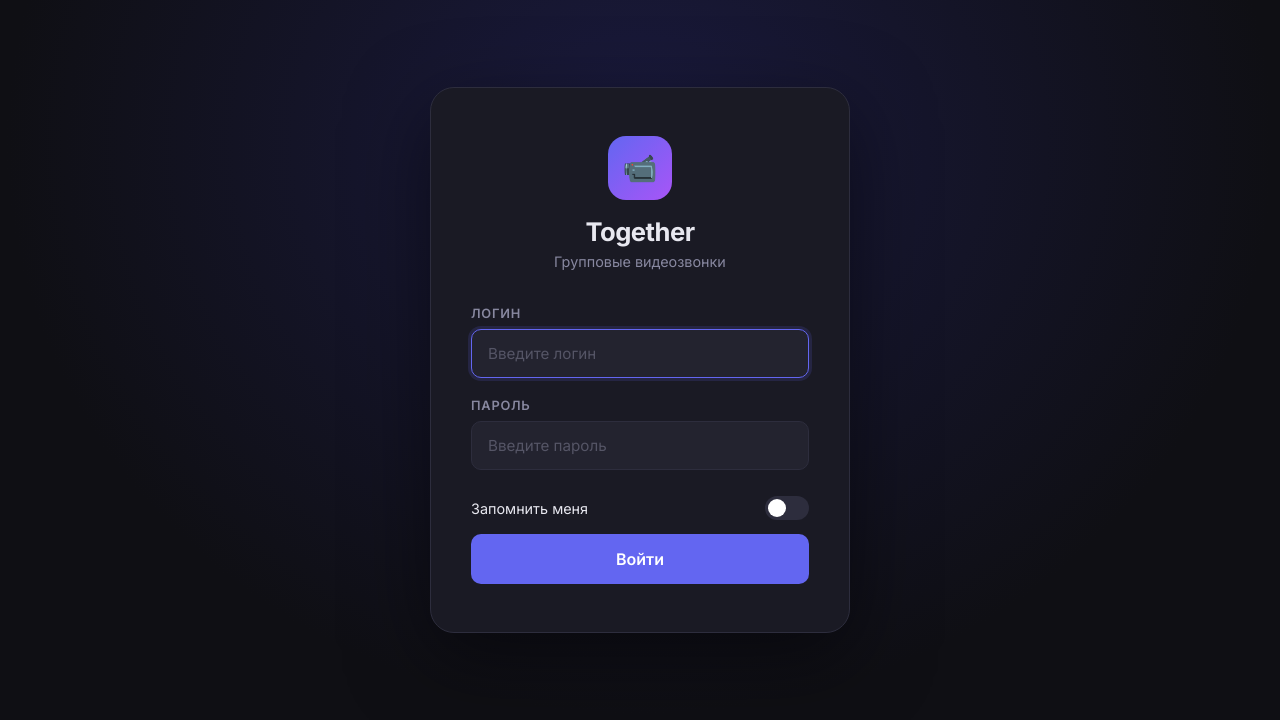
Test: Login › кнопка блокируется во время загрузки
Type "admin" into the field with placeholder "Введите логин". click: (640,354)
box: 471,329 -> 809,378
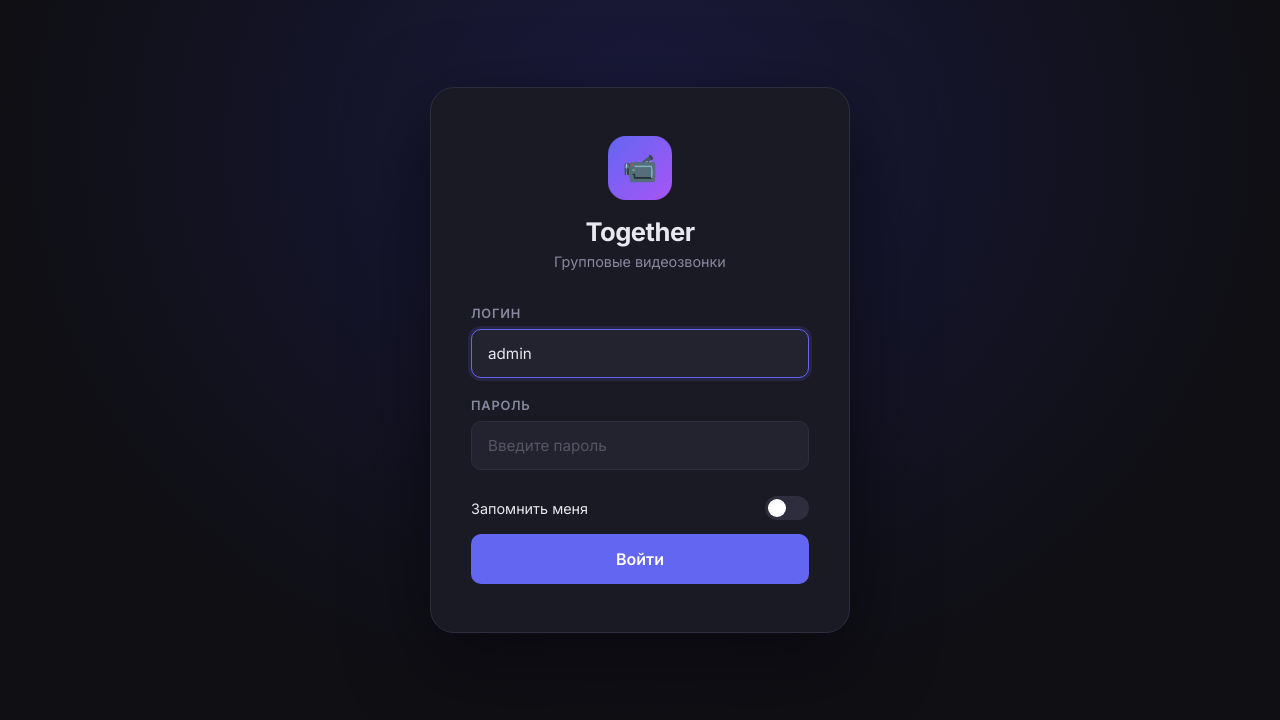
Type "pass" into the password field with placeholder "Введите пароль". click: (640,446)
box: 471,421 -> 809,470
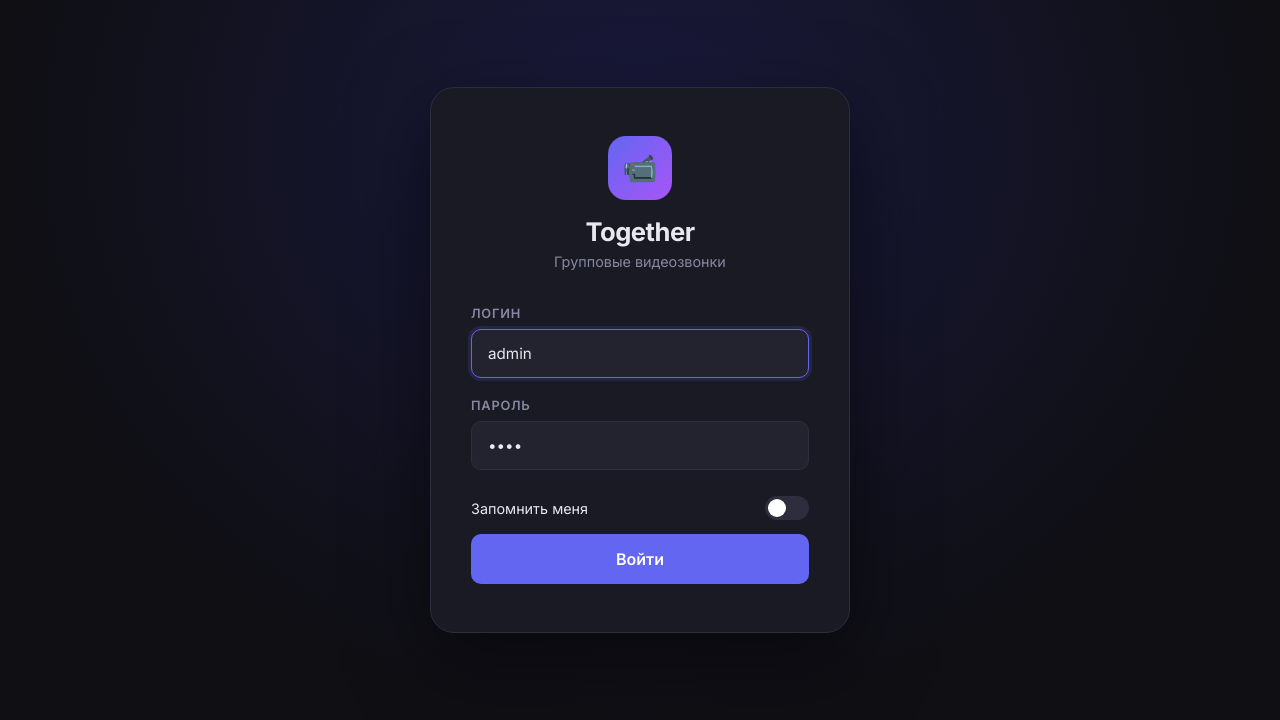
Click the button "Войти". click: (640,559)
box: 471,534 -> 809,584
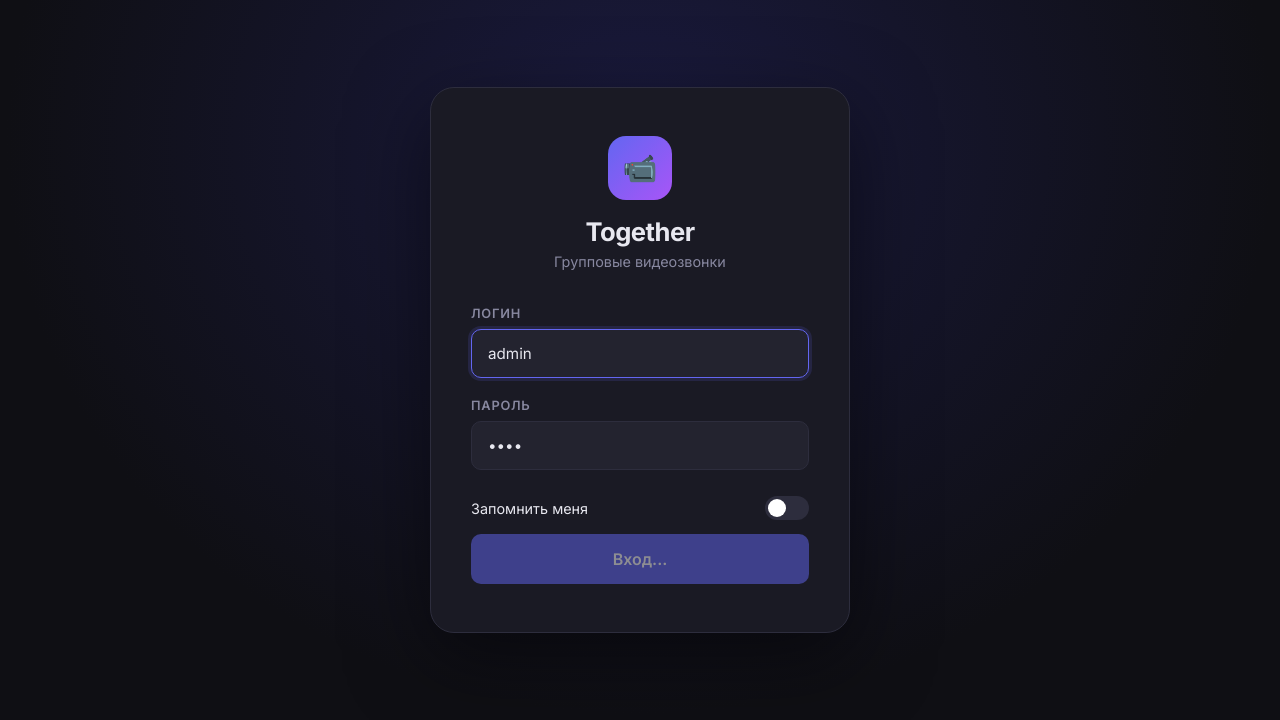
Now the button "Вход..." is disabled, box 471,534 -> 809,584
